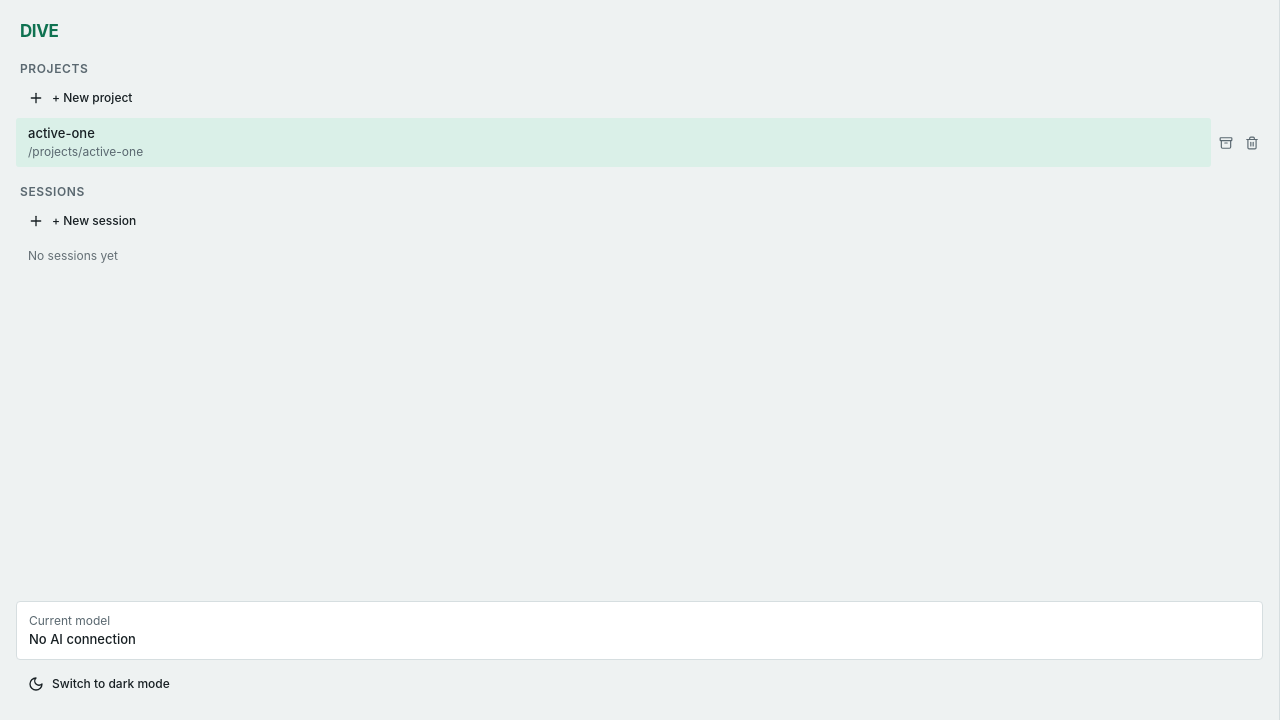
Test: Sidebar mutation failures surface a toast instead of an unhandled rejection › shows an error toast when deleteProject rejects (delete confirmed)
The width and height of the screenshot is (1280, 720).
Click the button with test id "project-delete" at (1252, 142), box [1241, 132, 1263, 154]
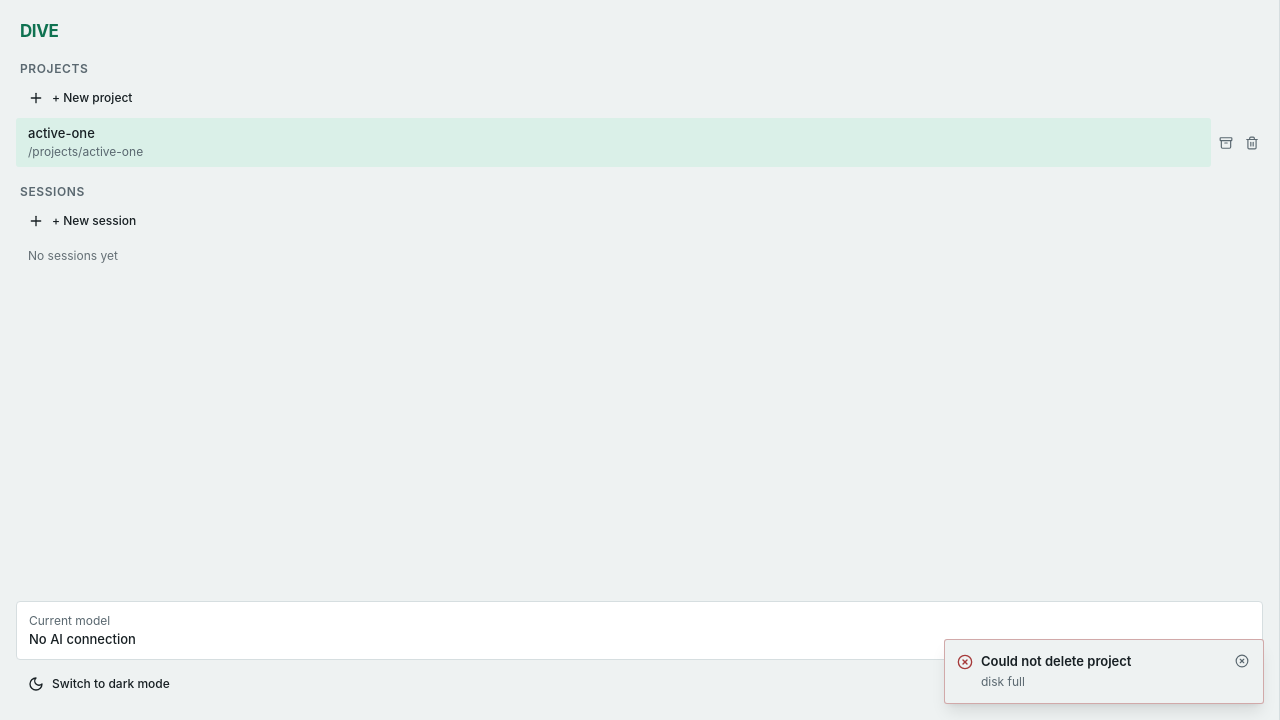
Check: the message with test id "toast" shows "Could not delete project", box [981, 652, 1132, 668]
